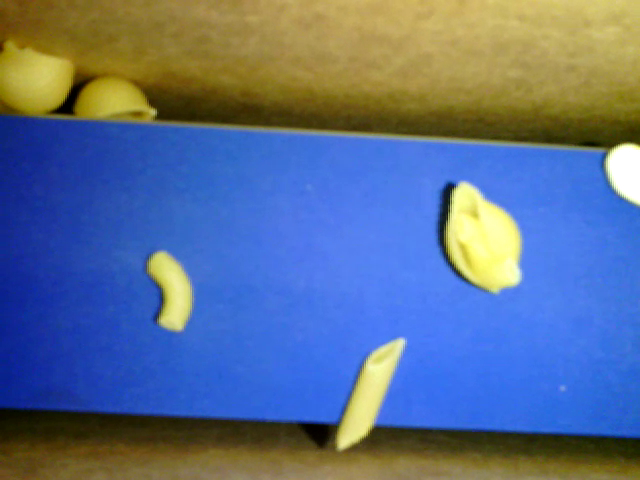elbow: (449, 208, 520, 289), (144, 248, 197, 330)
penne: (332, 336, 407, 450)
shell: (441, 175, 523, 292), (1, 34, 79, 113), (70, 73, 164, 121)
